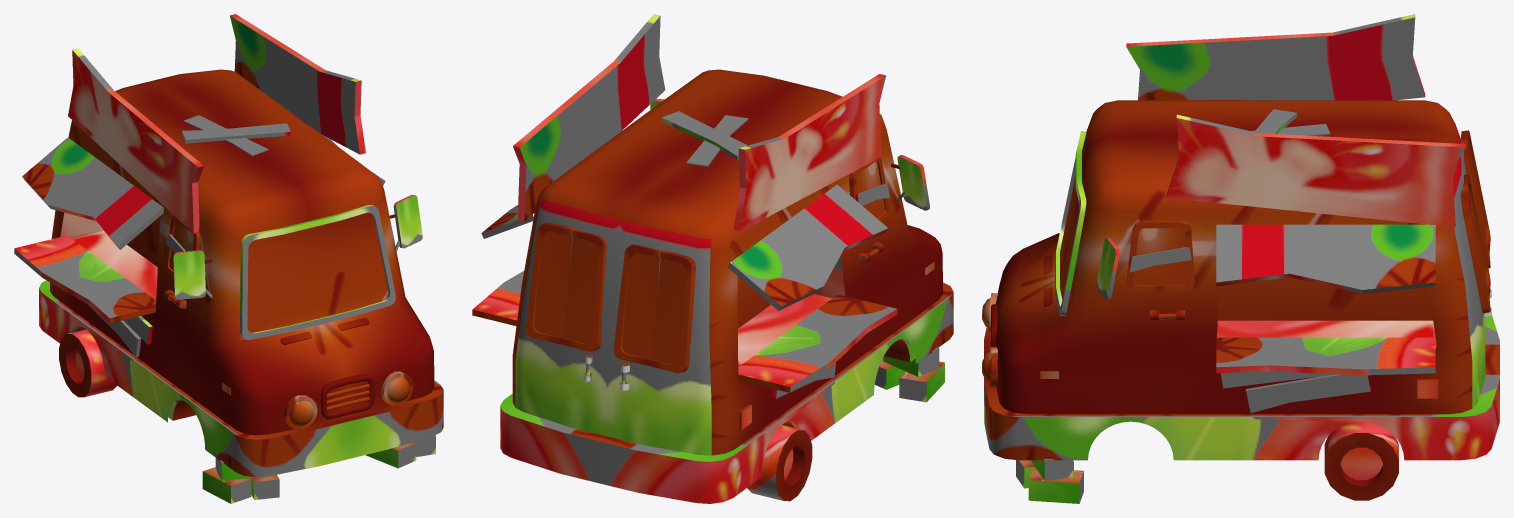
File: food truck_2.fbx
3 views of the same model, side by side, from view 1: azimuth 30°, elevation 25°; view 2: azimuth 150°, elevation 25°; view 3: azimuth 270°, elevation 25° (orthographic). The views are drawn at different scales.
Visible parts, largest first — view 1: Cube.213, Cube.222, Cube.206, Cube.226, Cube.219, Cube.214, Cube.208, Cube.202, Cube.224, Plane.021, Cylinder.056, Cylinder.052 (+7 smaller); view 2: Cube.213, Cube.222, Cube.211, Cube.226, Cube.219, Cube.214, Cube.208, Cylinder.056, Cube.224, Cube.218, Cube.209, Plane.021 (+1 smaller); view 3: Cube.213, Cube.219, Cube.222, Cube.226, Cube.214, Cube.208, Cylinder.056, Cube.209, Cube.211, Cube.216, Cube.224, Cube.202 (+6 smaller).
Part boxes in pixels (x1=…): Cube.213: x1=50, y1=69, x2=434, y2=435; Cube.222: x1=39, y1=280, x2=443, y2=477; Cube.206: x1=247, y1=212, x2=388, y2=332; Cube.226: x1=68, y1=48, x2=203, y2=233; Cube.219: x1=230, y1=14, x2=365, y2=154; Cube.214: x1=22, y1=135, x2=385, y2=249; Cube.208: x1=14, y1=235, x2=156, y2=323; Cube.202: x1=239, y1=205, x2=395, y2=339; Cube.224: x1=202, y1=435, x2=435, y2=503; Plane.021: x1=173, y1=195, x2=422, y2=299; Cylinder.056: x1=59, y1=329, x2=117, y2=397; Cylinder.052: x1=283, y1=371, x2=413, y2=429; Cube.213: x1=512, y1=69, x2=942, y2=455; Cube.222: x1=500, y1=282, x2=953, y2=503; Cube.211: x1=526, y1=222, x2=695, y2=373; Cube.226: x1=733, y1=74, x2=886, y2=231; Cube.219: x1=513, y1=14, x2=665, y2=221; Cube.214: x1=481, y1=184, x2=888, y2=310; Cube.208: x1=472, y1=271, x2=897, y2=392; Cylinder.056: x1=747, y1=425, x2=812, y2=501; Cube.224: x1=875, y1=347, x2=944, y2=402; Cube.218: x1=661, y1=111, x2=747, y2=160; Cube.209: x1=849, y1=157, x2=889, y2=221; Plane.021: x1=650, y1=98, x2=929, y2=210; Cube.213: x1=994, y1=100, x2=1485, y2=414; Cube.219: x1=1166, y1=114, x2=1465, y2=227; Cube.222: x1=984, y1=315, x2=1499, y2=460; Cube.226: x1=1126, y1=14, x2=1425, y2=100; Cube.214: x1=1216, y1=224, x2=1435, y2=293; Cube.208: x1=1216, y1=337, x2=1435, y2=375; Cylinder.056: x1=1324, y1=421, x2=1398, y2=500; Cube.209: x1=1126, y1=220, x2=1194, y2=291; Cube.211: x1=1460, y1=130, x2=1490, y2=313; Cube.216: x1=1246, y1=374, x2=1370, y2=412; Cube.224: x1=1016, y1=459, x2=1083, y2=503; Cube.202: x1=1055, y1=131, x2=1086, y2=316.
Size of the model in its own units: 2.65 by 2.86 by 3.56.
